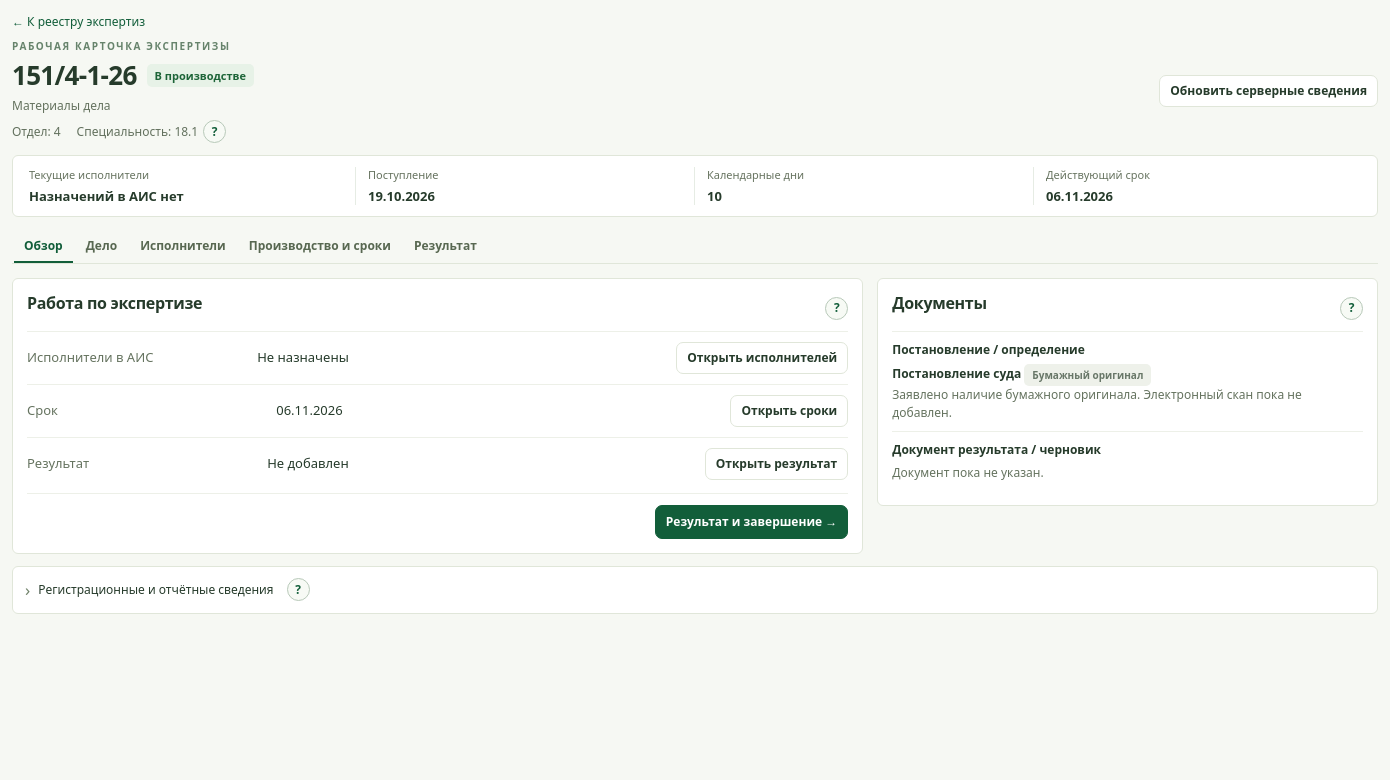
Test case: production work controls › shows server counts and distinct requested, agreed and unknown initial dates without granting session-wide actions
Expected: the text "calendar_inclusive_pause_half_open_v1" is not shown
Click the tab "Производство и сроки": click(320, 247) x1=239 y1=231 x2=401 y2=263
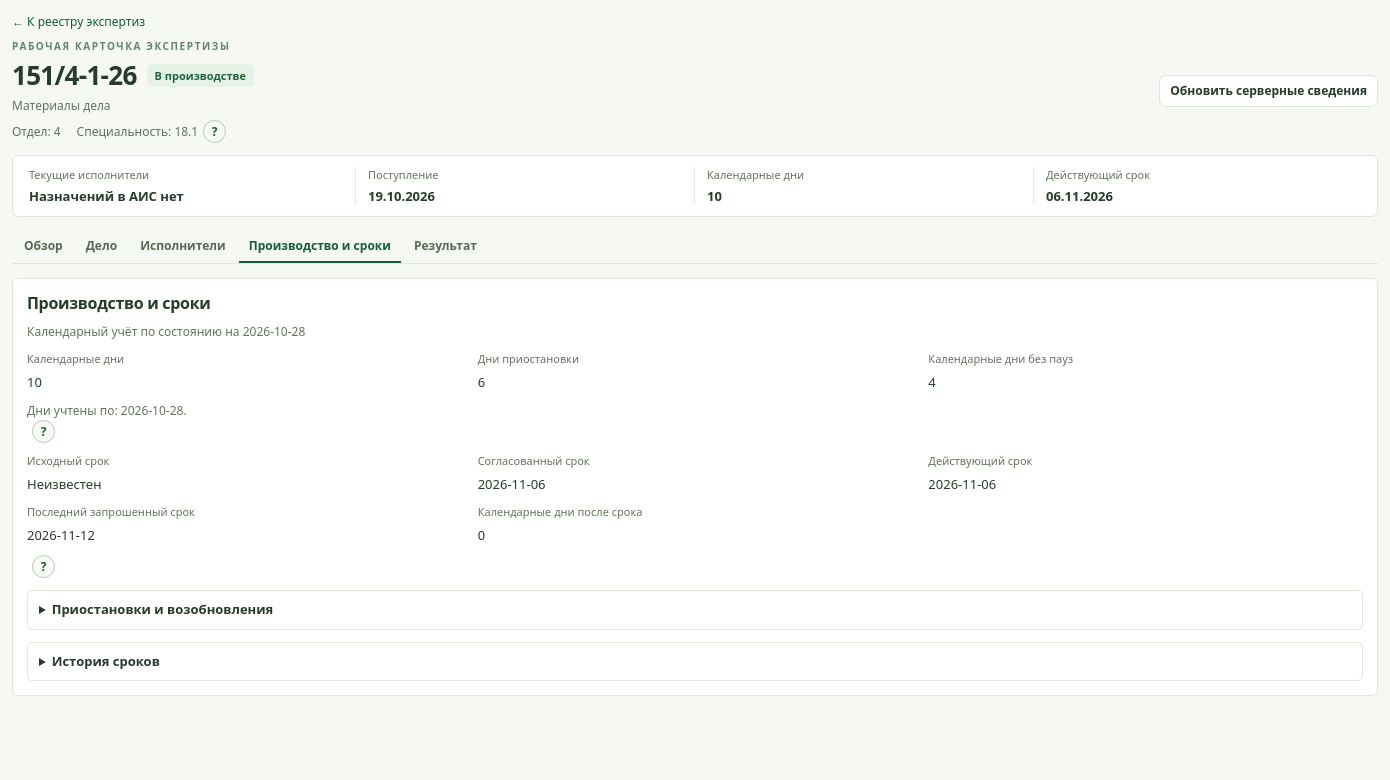
Focus the button named "Пояснение: Расчёт дней производства": (44, 432) x1=32 y1=420 x2=55 y2=443
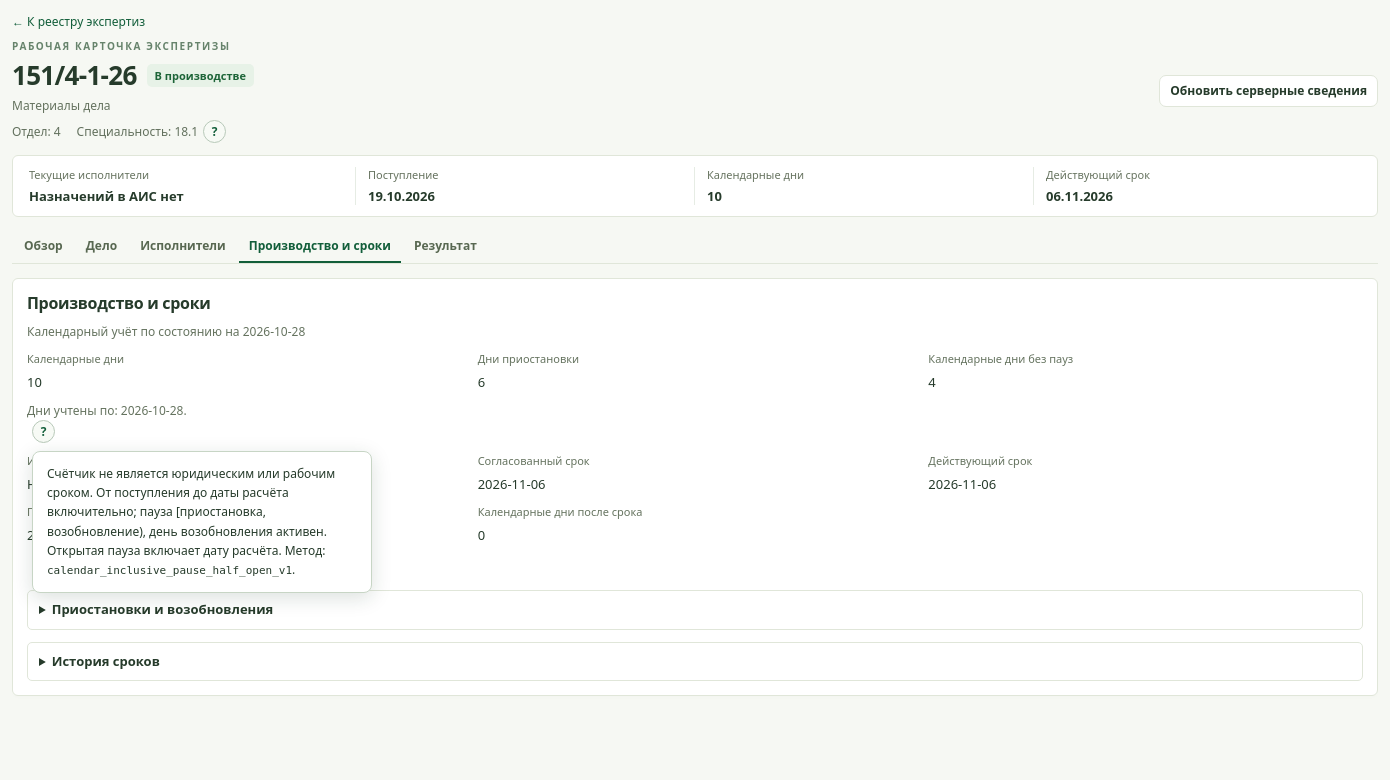
Expected: the tooltip shows "calendar_inclusive_pause_half_open_v1", x1=47 y1=564 x2=292 y2=577
Expected: the tooltip shows "не является юридическим или рабочим сроком", x1=47 y1=465 x2=335 y2=559
